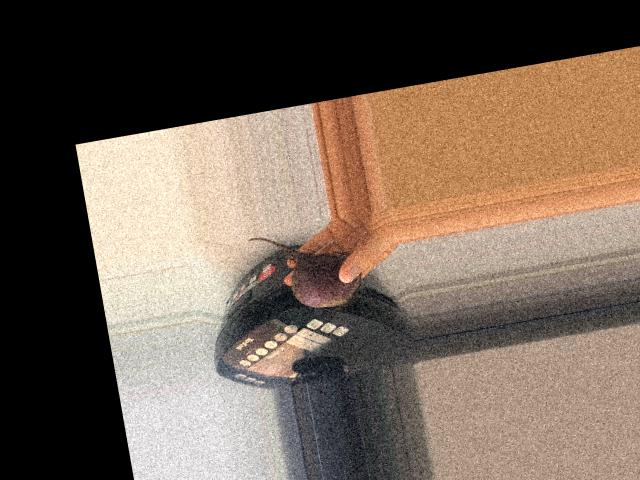beet: (247, 221, 365, 322)
